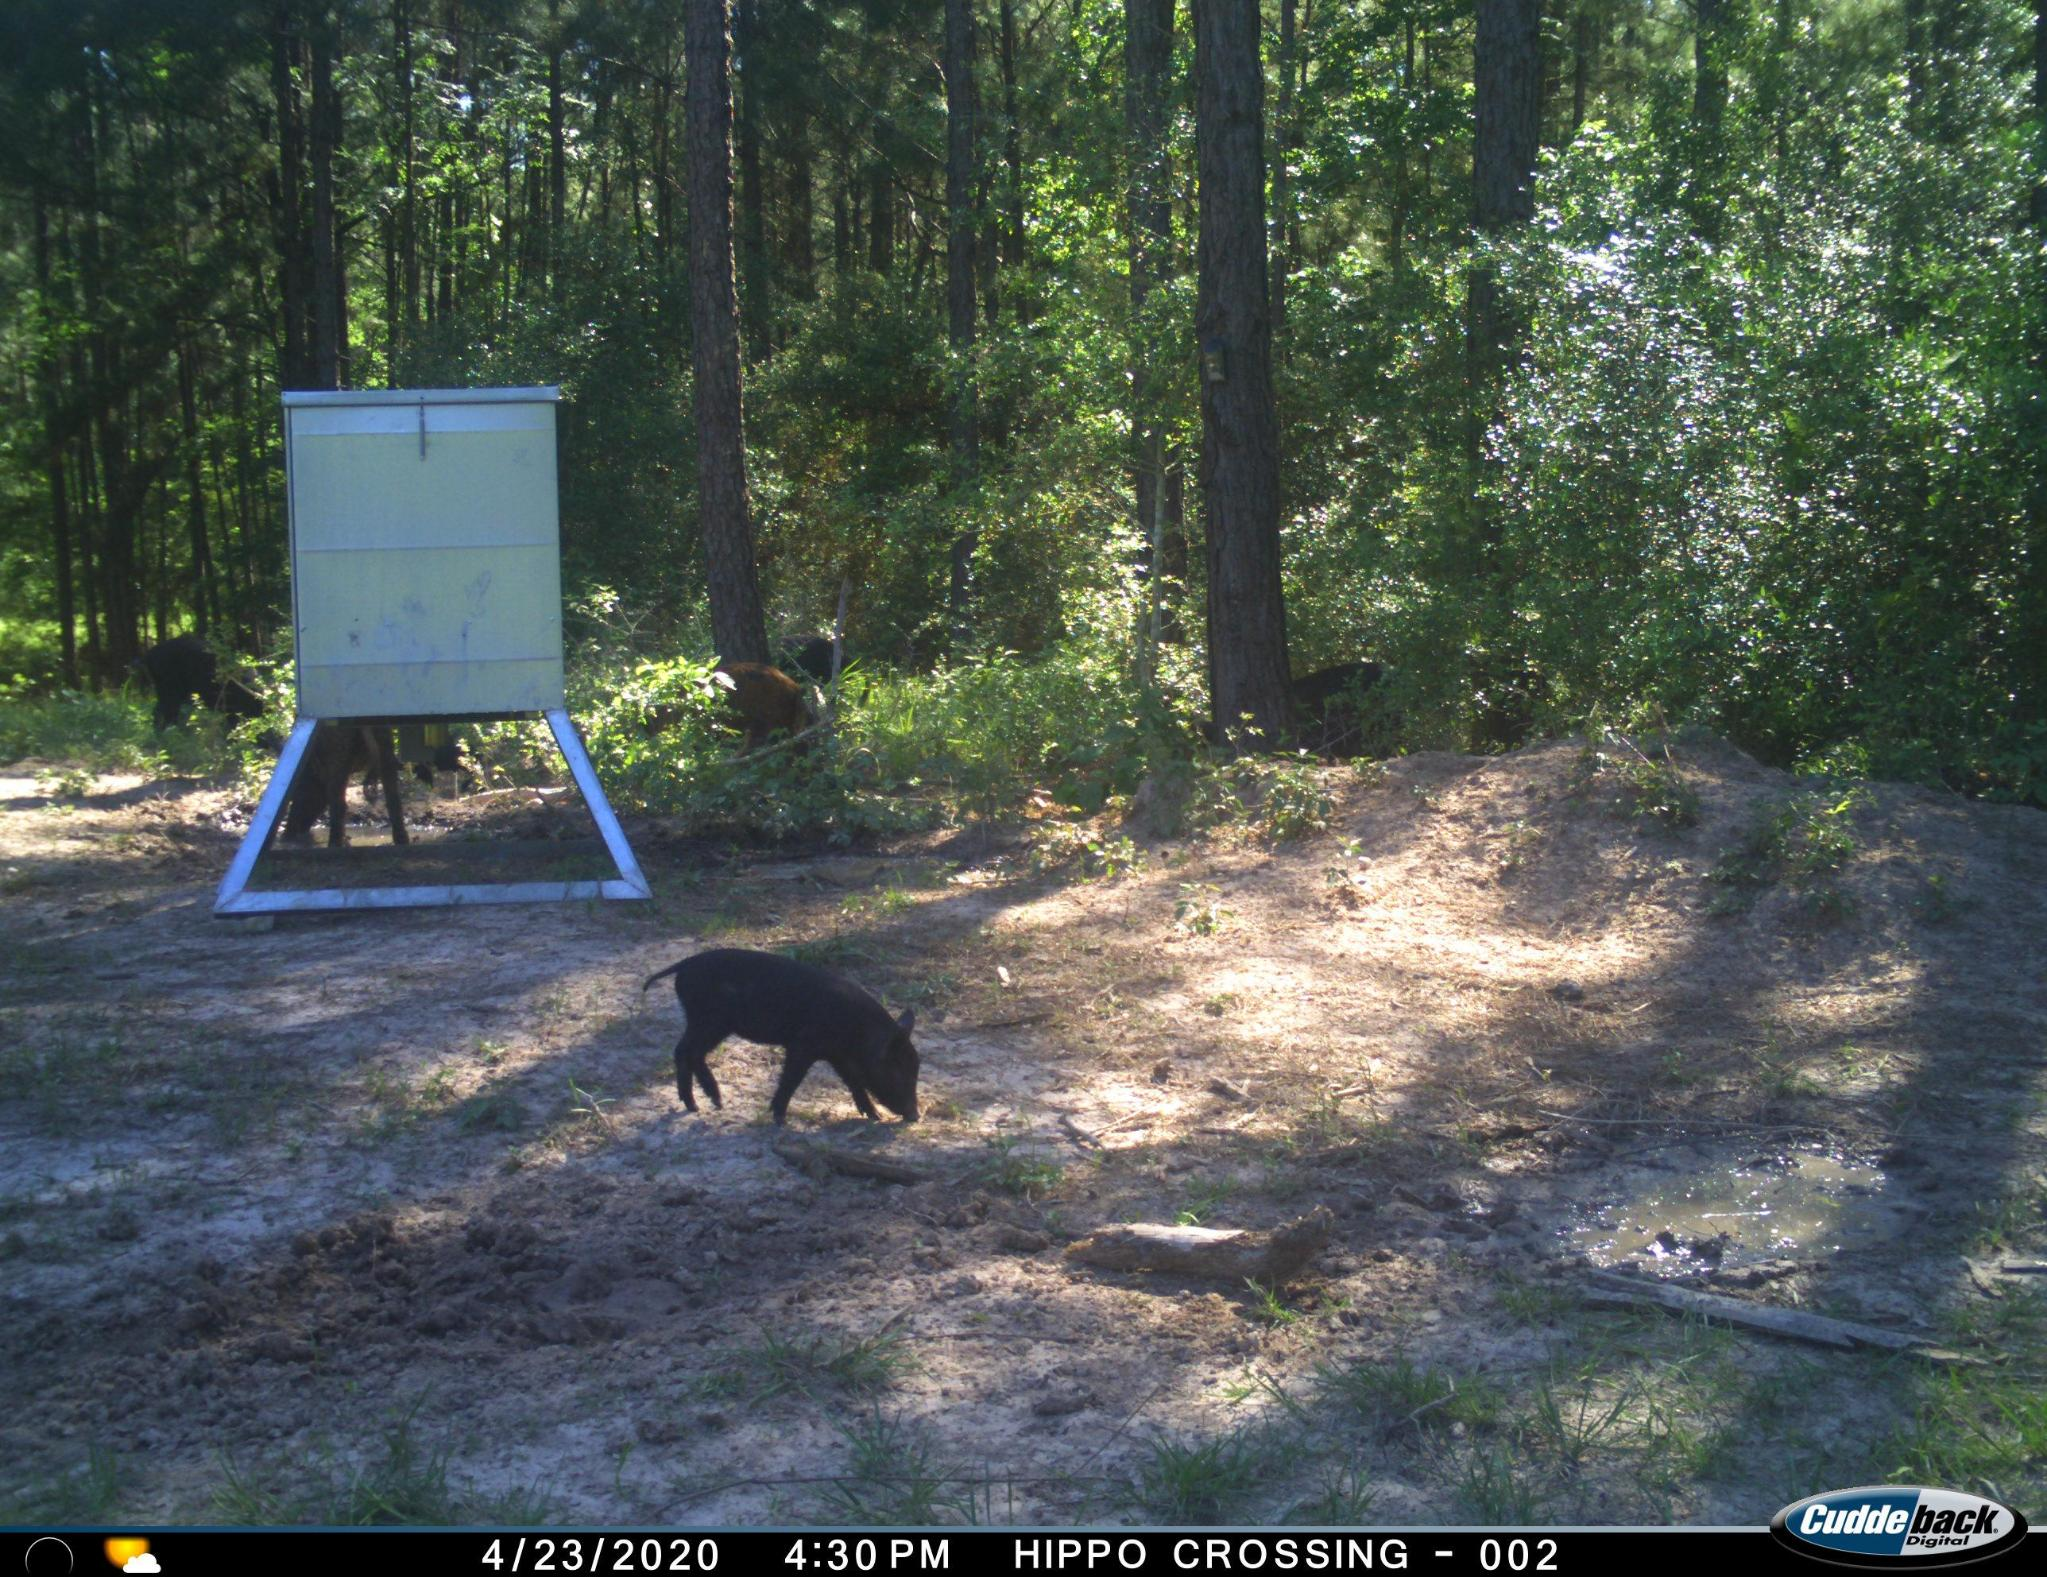Hog: (643, 943, 927, 1141), (250, 712, 414, 861), (134, 626, 273, 749), (699, 663, 818, 764)
